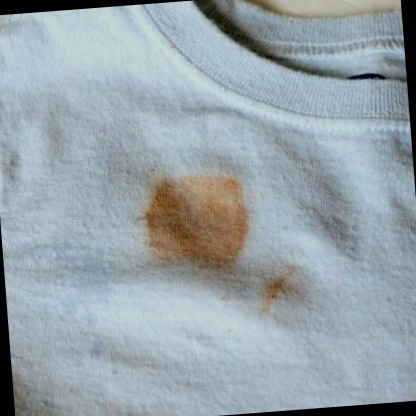kimchi: (128, 174, 256, 277), (257, 259, 304, 320)
